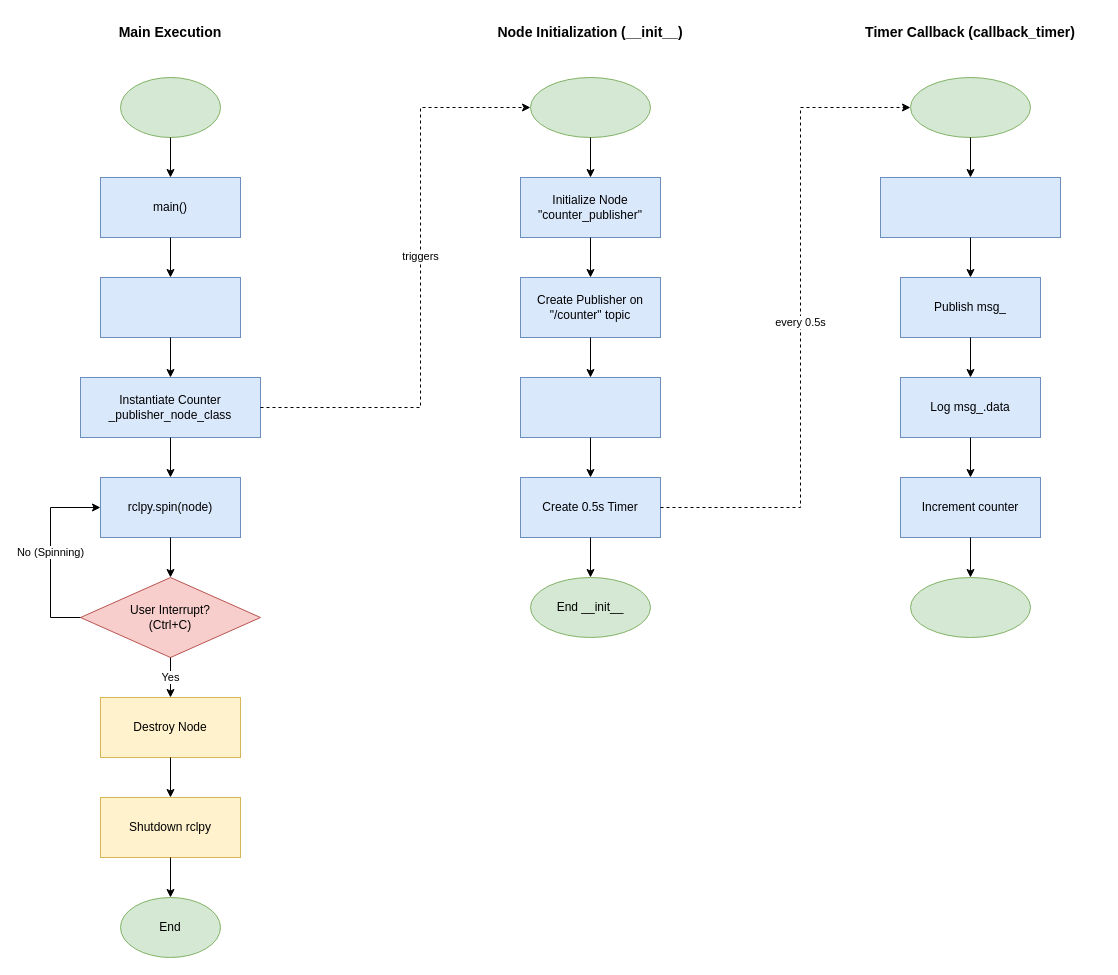
This 1118x975 diagram has some shape labels left out. The shapes that lost their labels are listed below. From the top down, each one's centre as x and y in pixels, then its label:
[170,107]: Start
[590,107]: Start __init__
[970,107]: Start callback
[970,207]: Update msg_.data with current counter
[170,307]: Initialize rclpy
[590,407]: Create empty String message object
[970,607]: End callback
